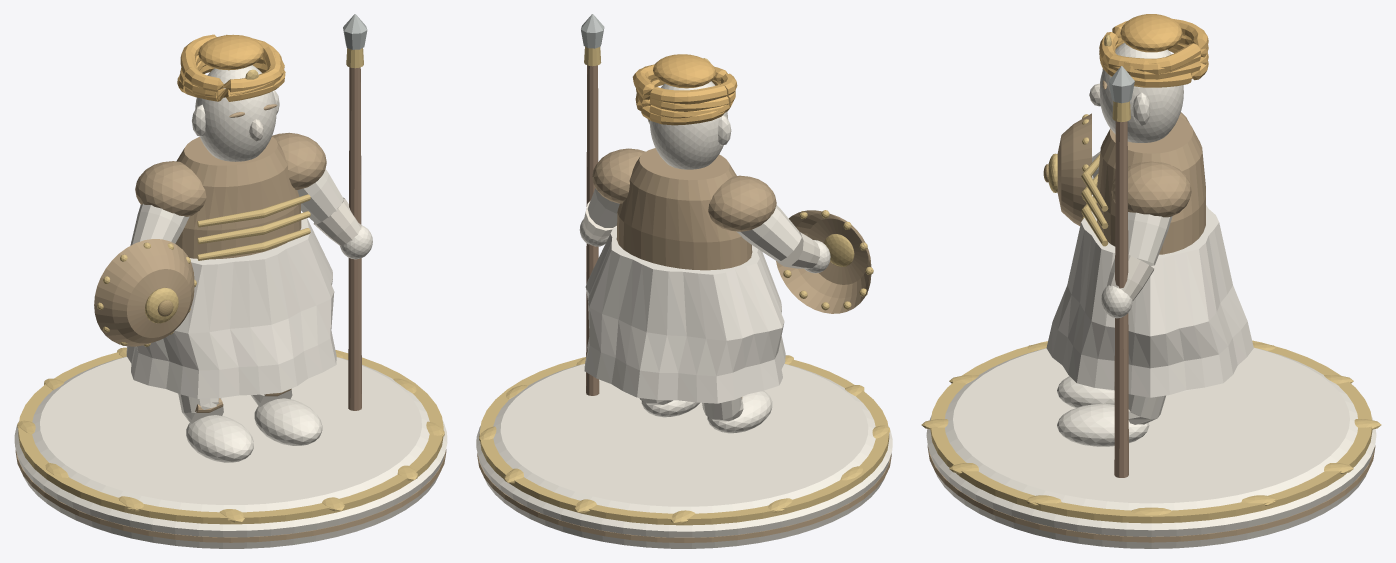
3 renders of one model, left to right at view 1: azimuth 30°, elevation 25°; view 2: azimuth 150°, elevation 25°; view 3: azimuth 270°, elevation 25°, orthographic. The views are drawn at different scales.
Parts seen in each view (by area): view 1: Plinth_Stone, Pawn_Dhoti, Pawn_Torso, Plinth_GoldRim, Pawn_DhalShield, Pawn_Head, Pawn_Spear_Shaft, Pawn_LeftArm_Pauldron, Plinth_BronzeFillet, Pawn_Foot_-1, Pawn_Foot_1, Pawn_Turban_3 (+14 smaller); view 2: Plinth_Stone, Pawn_Dhoti, Pawn_Torso, Plinth_GoldRim, Pawn_DhalShield, Pawn_Head, Pawn_LeftArm_Pauldron, Plinth_BronzeFillet, Pawn_Spear_Shaft, Pawn_Turban_3, Pawn_RightArm_Pauldron, Pawn_LeftArm_Upper (+11 smaller); view 3: Plinth_Stone, Pawn_Dhoti, Plinth_GoldRim, Pawn_Torso, Pawn_Spear_Shaft, Pawn_Head, Pawn_RightArm_Pauldron, Plinth_BronzeFillet, Pawn_DhalShield, Pawn_Foot_1, Pawn_Turban_3, Pawn_Turban_Cap (+9 smaller).
Part boxes in pixels (x1,y1,x2,y2): Plinth_Stone: (14,356,447,548); Pawn_Dhoti: (126,218,336,398); Pawn_Torso: (175,137,301,259); Plinth_GoldRim: (18,350,443,524); Pawn_DhalShield: (94,239,194,346); Pawn_Head: (195,65,276,161); Pawn_Spear_Shaft: (348,67,361,410); Pawn_LeftArm_Pauldron: (135,161,206,216); Plinth_BronzeFillet: (15,449,446,542); Pawn_Foot_-1: (186,415,253,462); Pawn_Foot_1: (254,398,322,445); Pawn_Turban_3: (180,34,282,92); Plinth_Stone: (476,363,892,548); Pawn_Dhoti: (584,227,785,403); Pawn_Torso: (616,148,752,270); Plinth_GoldRim: (479,357,889,525); Pawn_DhalShield: (776,210,871,313); Pawn_Head: (650,81,728,169); Pawn_LeftArm_Pauldron: (708,175,776,231); Plinth_BronzeFillet: (477,453,891,542); Pawn_Spear_Shaft: (586,65,599,395); Pawn_Turban_3: (632,65,737,104); Pawn_RightArm_Pauldron: (592,148,645,203); Pawn_LeftArm_Upper: (736,204,801,261); Plinth_Stone: (926,347,1376,548); Pawn_Dhoti: (1046,205,1253,397); Plinth_GoldRim: (930,340,1372,523); Pawn_Torso: (1097,116,1205,254); Pawn_Spear_Shaft: (1114,121,1128,477); Pawn_Head: (1099,42,1183,142); Pawn_RightArm_Pauldron: (1111,161,1191,217); Plinth_BronzeFillet: (927,445,1375,542); Pawn_DhalShield: (1057,113,1091,225); Pawn_Foot_1: (1057,403,1149,446); Pawn_Turban_3: (1099,18,1208,71); Pawn_Turban_Cap: (1120,14,1182,52).
Bounding box in the file's own units: 0.68 × 0.743 × 0.696.
